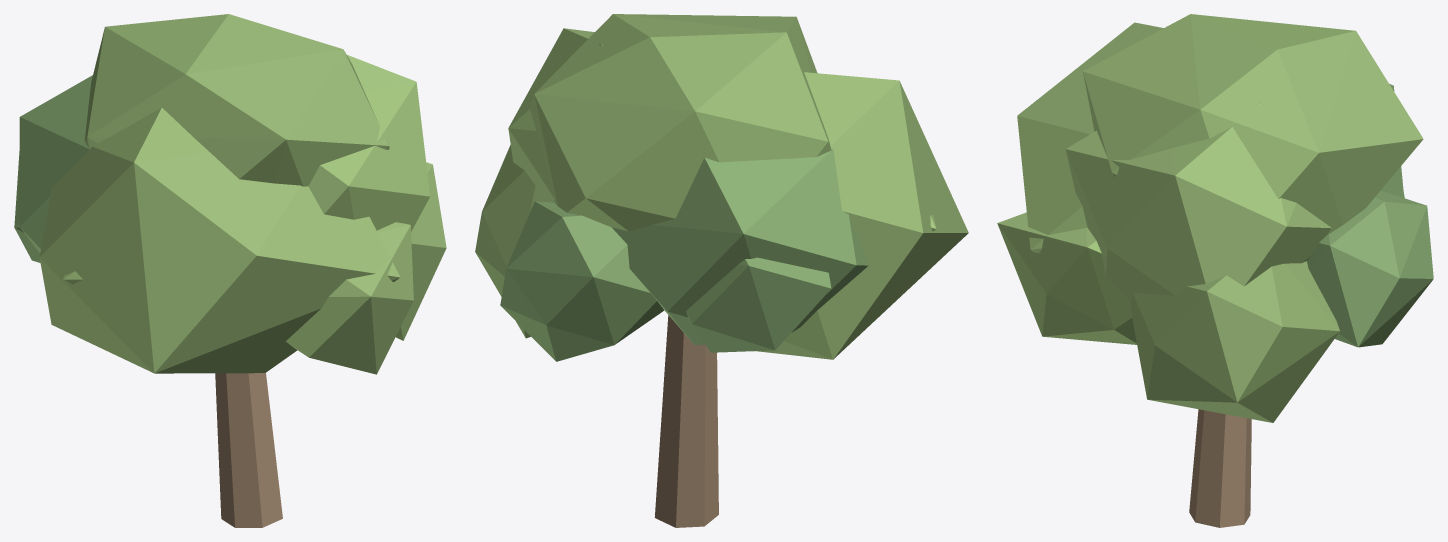
File: tree_gen2.glb
3 views of the same model, side by side, from view 1: azimuth 30°, elevation 25°; view 2: azimuth 150°, elevation 25°; view 3: azimuth 270°, elevation 25° (orthographic). The views are drawn at different scales.
Visible parts, largest first — view 1: hull; view 2: hull; view 3: hull.
Boxes of the visible parts, bbox=[...] form: hull: bbox=[14, 14, 446, 527]; hull: bbox=[475, 14, 968, 527]; hull: bbox=[997, 14, 1433, 527].
Bounding box in the file's own units: 4.66 × 5.16 × 4.33.
